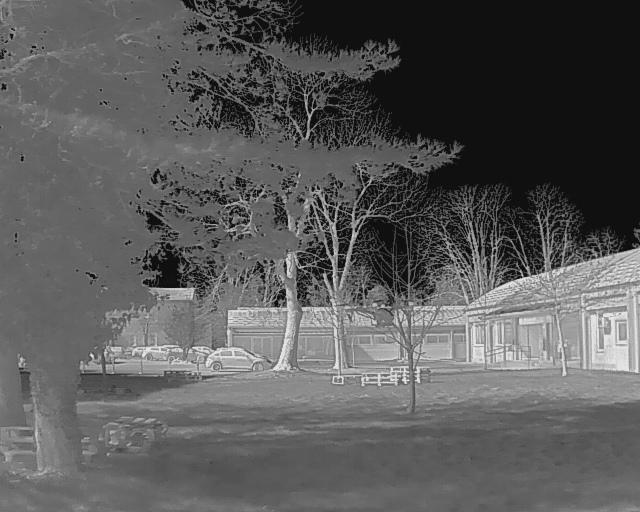drone: (340, 295, 429, 334)
